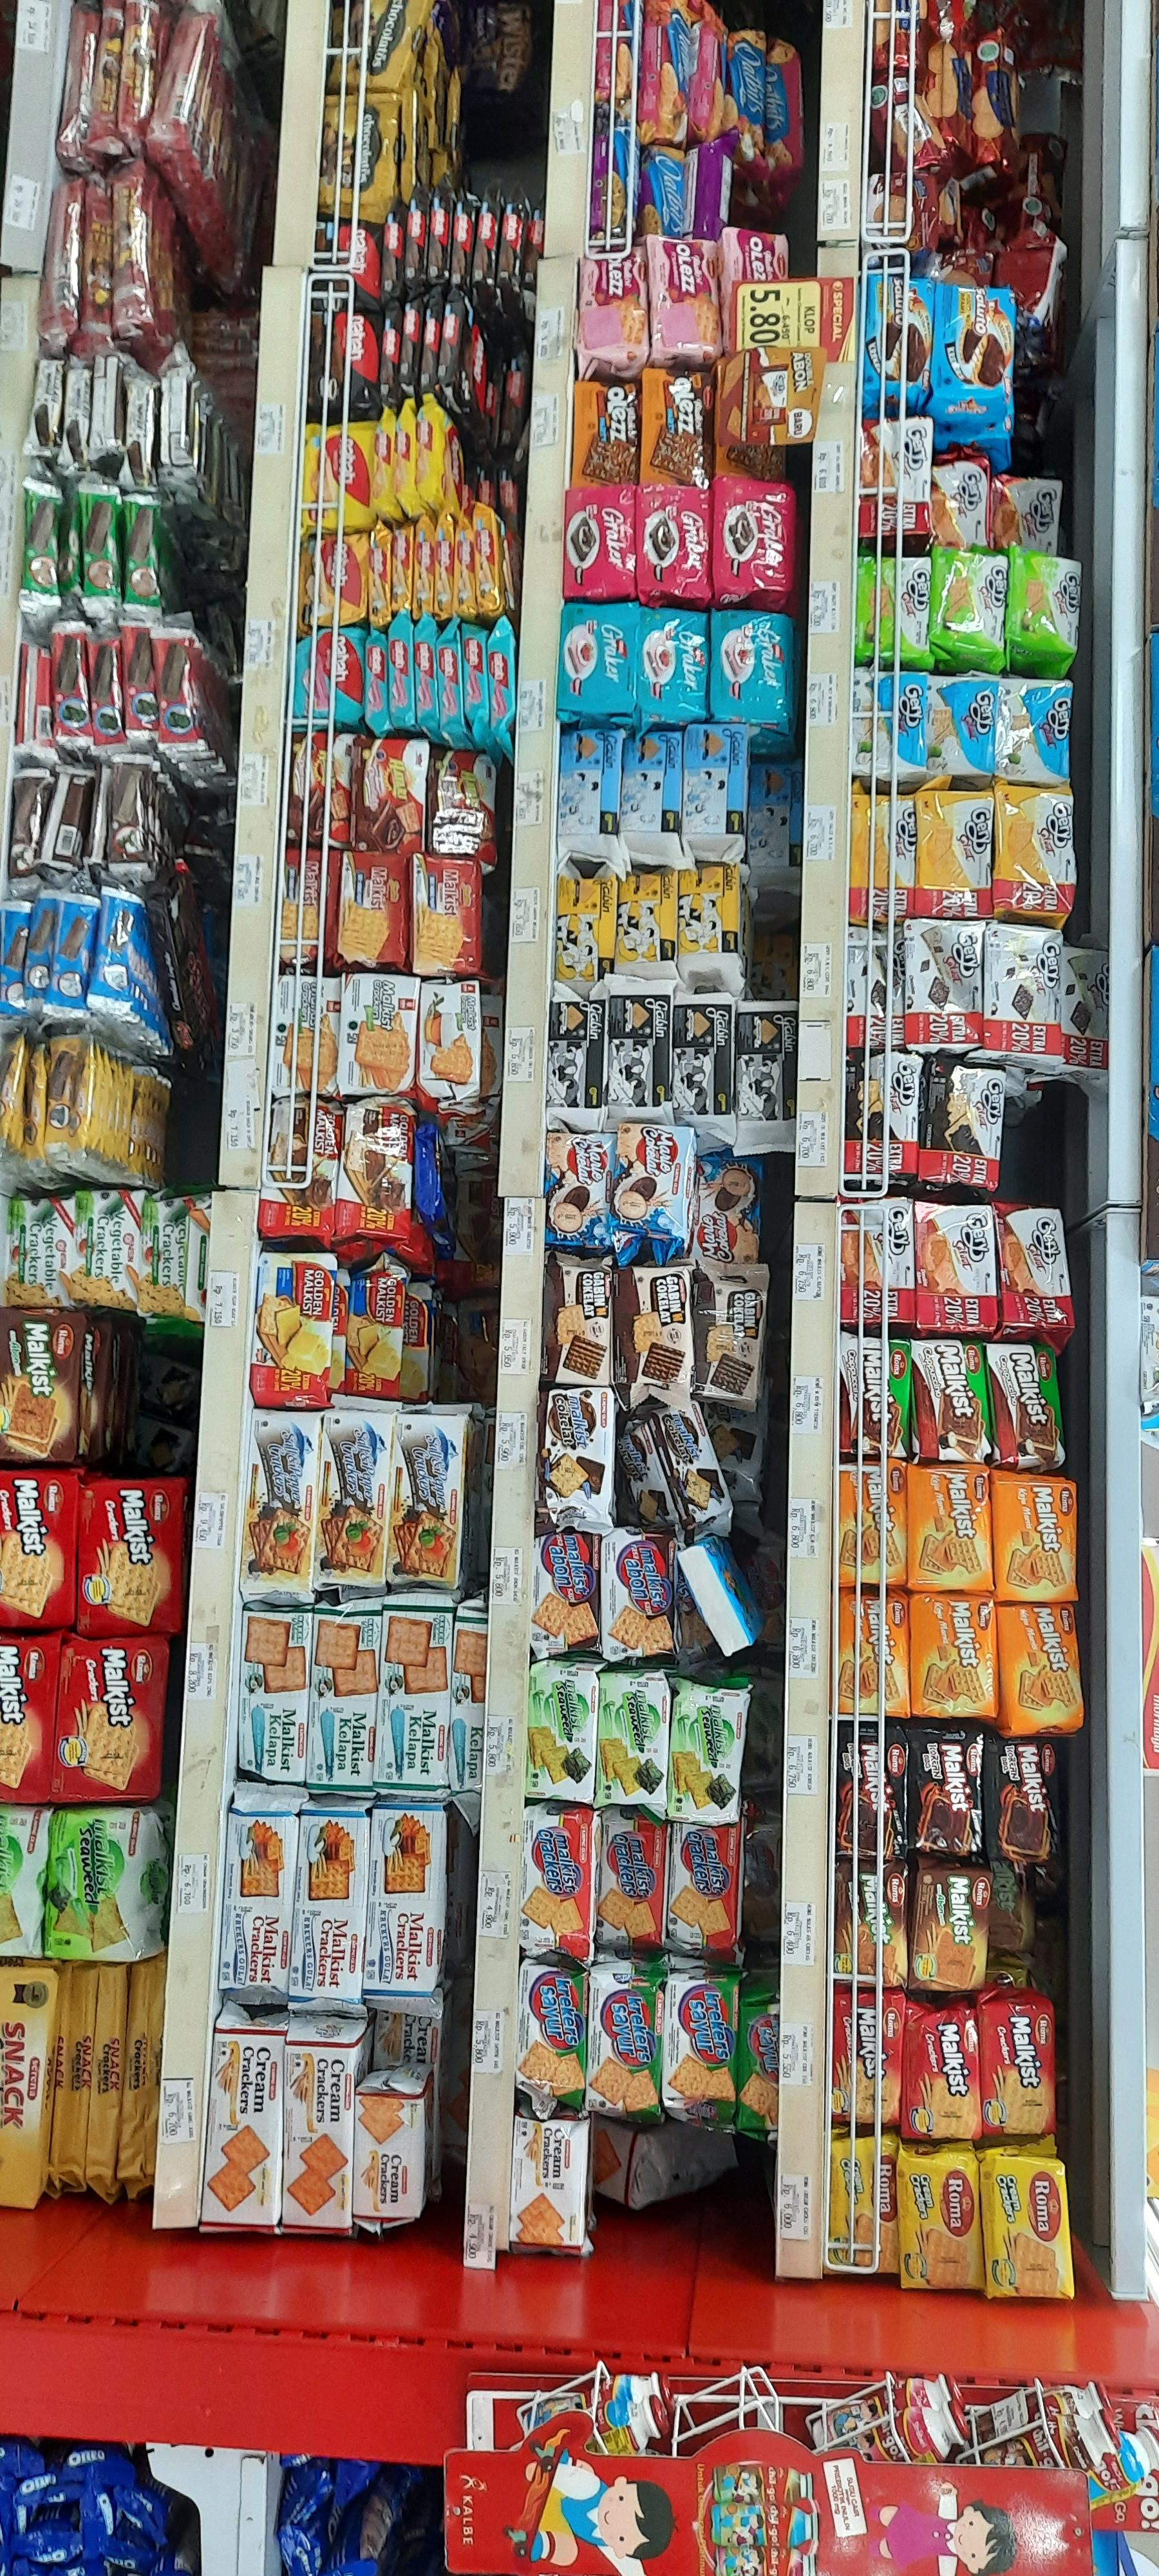90101225202101: (844, 1050, 926, 1193), (914, 1065, 1008, 1189)
90101225205101: (995, 789, 1075, 927), (918, 790, 995, 922), (850, 795, 914, 925)
90101225209100: (924, 675, 995, 787), (852, 669, 923, 780), (996, 675, 1067, 787)
90101225212100: (932, 542, 1006, 674), (854, 555, 929, 669), (1005, 559, 1079, 670)
90101225218101: (987, 927, 1061, 1065), (905, 918, 977, 1056), (842, 925, 903, 1050)
90101225226101: (836, 1196, 919, 1329), (914, 1201, 996, 1336), (996, 1207, 1079, 1341)
ChocolatorOriginal: (318, 92, 392, 225)
HatariCoklat: (427, 746, 497, 862), (356, 736, 427, 851), (291, 731, 353, 849)
KokolaOlezzChocoParty: (639, 373, 714, 483), (568, 379, 642, 490)
KokolaOlezzStrawberry: (645, 230, 722, 366), (571, 243, 648, 378)
KongGuanCrackersGula: (222, 1792, 292, 2004), (295, 1789, 364, 2004), (374, 1796, 443, 2009)
KongGuanCrackersKelapa: (376, 1600, 456, 1794), (243, 1602, 310, 1792), (309, 1603, 376, 1792)
KongGuanCreanCrackers: (281, 2016, 366, 2233), (202, 2008, 287, 2224), (351, 2065, 438, 2234), (507, 2113, 594, 2257)
KongGuanKrekersSayur: (515, 1955, 588, 2119), (662, 1963, 734, 2127), (588, 1960, 658, 2126)
KongGuanMalkistAbon: (598, 1536, 678, 1664), (530, 1539, 594, 1664)
KongGuanMalkistCokelat: (543, 1390, 617, 1534)
KongGuanMalkistCrackers: (596, 1810, 671, 1960), (517, 1807, 591, 1958), (663, 1819, 737, 1968)
KongGuanMalkistSeaWeed: (39, 1804, 177, 1971), (668, 1672, 754, 1825), (525, 1654, 594, 1810), (598, 1659, 667, 1814)
KongGuanMarieSalutCoklat: (614, 1122, 703, 1250), (543, 1127, 616, 1249), (693, 1152, 763, 1263)
KongGuanSalt&PepperCrackers: (394, 1408, 478, 1597), (317, 1400, 399, 1589), (240, 1408, 322, 1597)
Malkist: (346, 851, 407, 974), (414, 856, 474, 977), (284, 849, 343, 973)
NabatCoklat: (318, 310, 379, 422), (317, 217, 376, 302)
NabatKeju: (305, 419, 378, 531)
NabatiGrackerRichberry: (563, 603, 644, 724), (712, 609, 793, 731), (635, 603, 714, 724)
NabatiGrackerRichoco: (708, 478, 796, 596), (565, 488, 637, 601), (639, 486, 711, 600)
NabatiLavaPink: (291, 626, 374, 736)
NabatiSusu: (299, 534, 369, 628)
NissinGabinCokelat: (547, 1250, 617, 1385), (696, 1258, 767, 1393), (621, 1262, 693, 1391)
NissinGabinKeju: (678, 869, 745, 984), (557, 876, 619, 984), (619, 874, 680, 982)
NissinGabinOriginal: (602, 986, 675, 1107), (540, 996, 612, 1117), (732, 1005, 804, 1125), (667, 997, 737, 1119)
NissinGabinSusu: (622, 731, 688, 835), (558, 731, 624, 833), (685, 728, 750, 830)
NissinGoldenMalkistCokelat: (338, 1097, 412, 1237), (264, 1101, 335, 1240), (343, 976, 417, 1097), (417, 977, 484, 1104), (277, 982, 338, 1088)
NissinGoldenMalkistMentega: (256, 1250, 332, 1415), (346, 1258, 409, 1396)
NissinVegetableCrackers: (7, 1181, 84, 1304), (92, 1188, 153, 1309), (156, 1196, 215, 1318)
RomaMalkistAbon: (0, 1309, 118, 1464), (836, 1866, 908, 1989), (914, 1866, 985, 1989)
RomaMalkistCappuccino: (909, 1341, 993, 1465), (987, 1342, 1069, 1469), (832, 1337, 913, 1464)
RomaMalkistCrackers: (53, 1630, 171, 1810), (69, 1475, 176, 1640), (980, 1993, 1052, 2134), (836, 1991, 908, 2132), (908, 1994, 980, 2136)
RomaMalkistCreamCrackers: (977, 2146, 1075, 2308), (901, 2152, 983, 2297), (826, 2136, 901, 2280)
RomaMalkistKeju: (993, 1475, 1082, 1603), (901, 1603, 990, 1732), (1001, 1605, 1090, 1732), (834, 1590, 911, 1717), (911, 1467, 988, 1592), (834, 1459, 909, 1585)
RomaMalkistKorean: (908, 1730, 988, 1865), (990, 1741, 1070, 1876), (836, 1733, 909, 1861)
